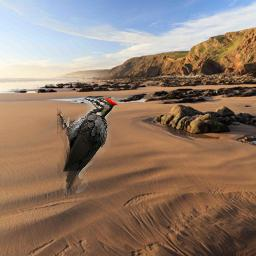Woodpecker: (57, 97, 118, 198)
